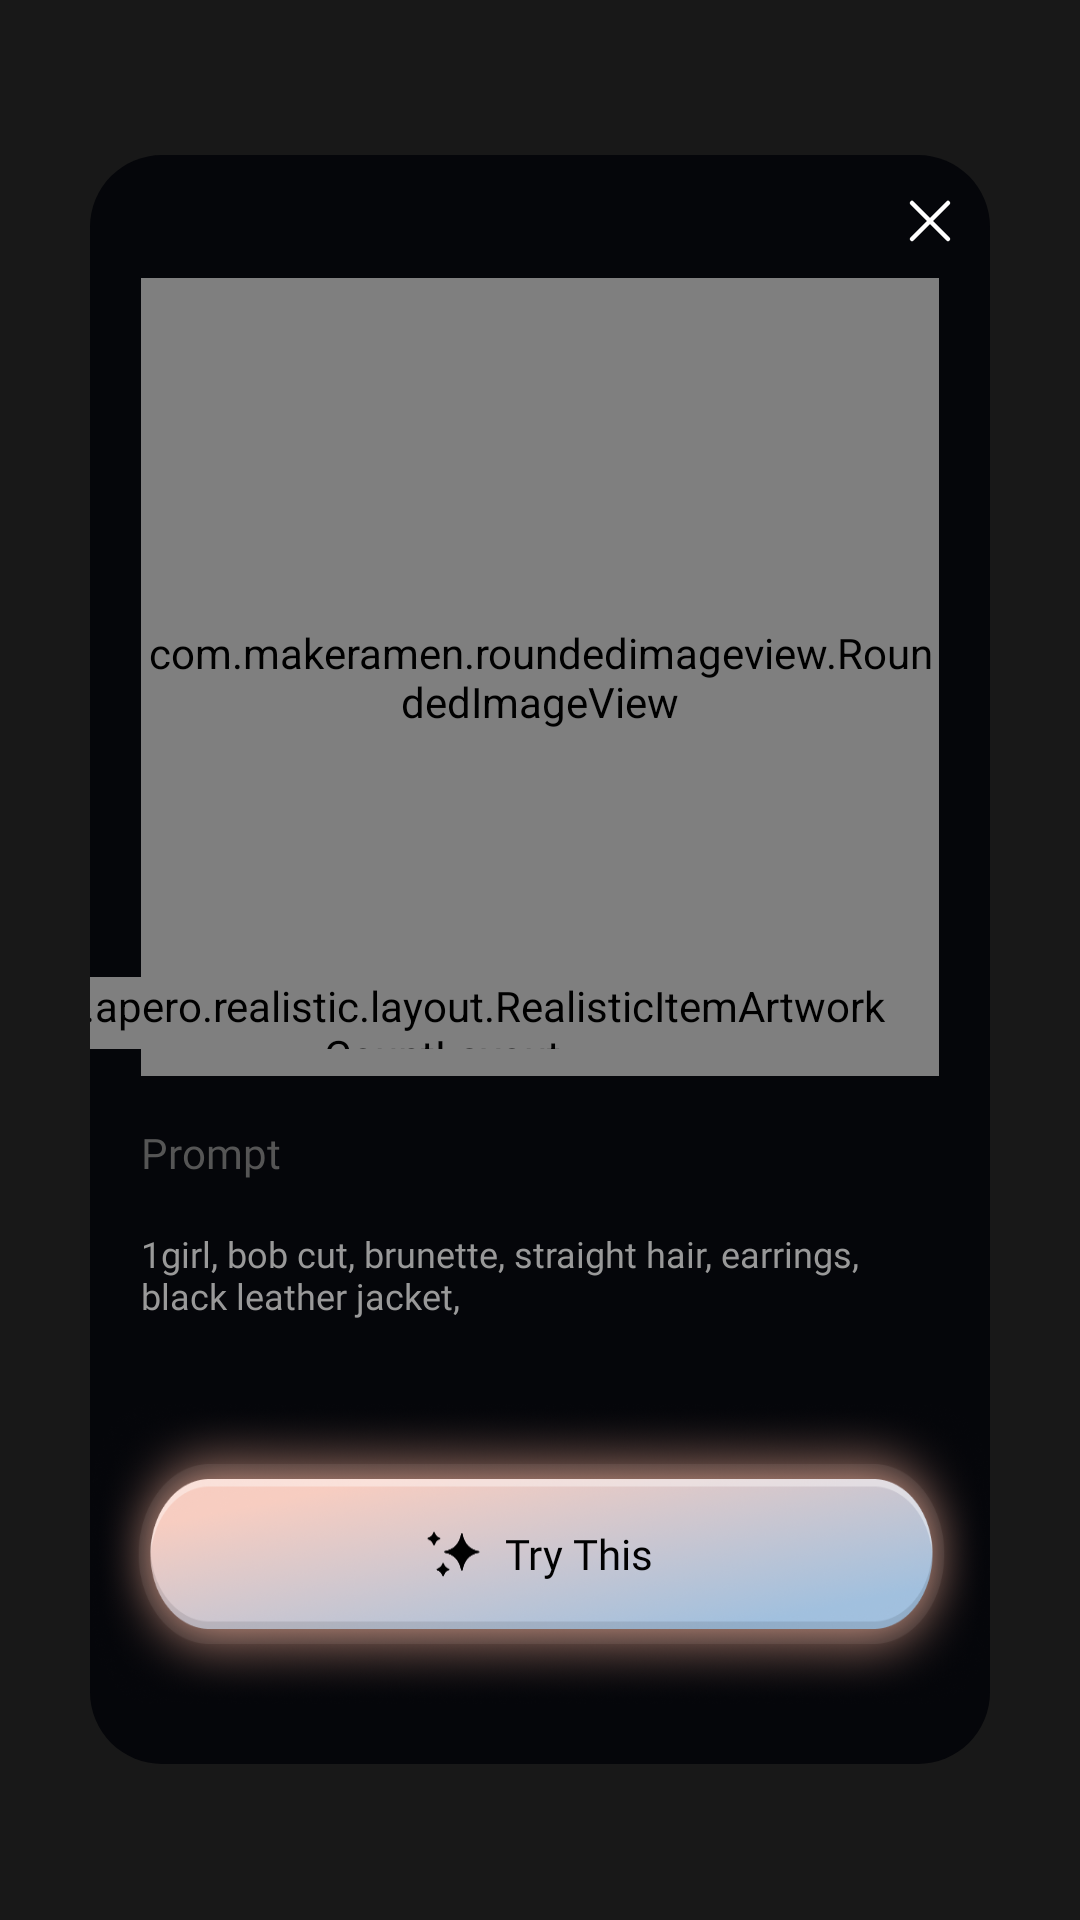

Icon click points for this 1080px×1920px phone screenshot, format (x,y):
close: (930,221)
try artwork: (453,1554)
